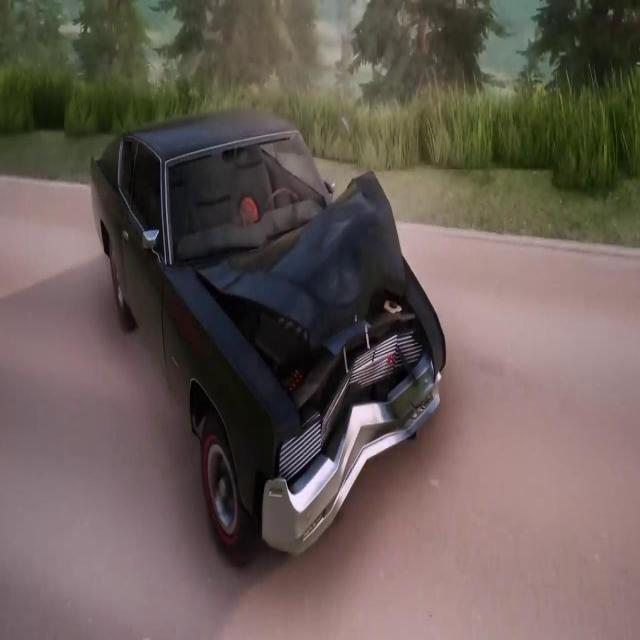moderate: (86, 103, 452, 579)
